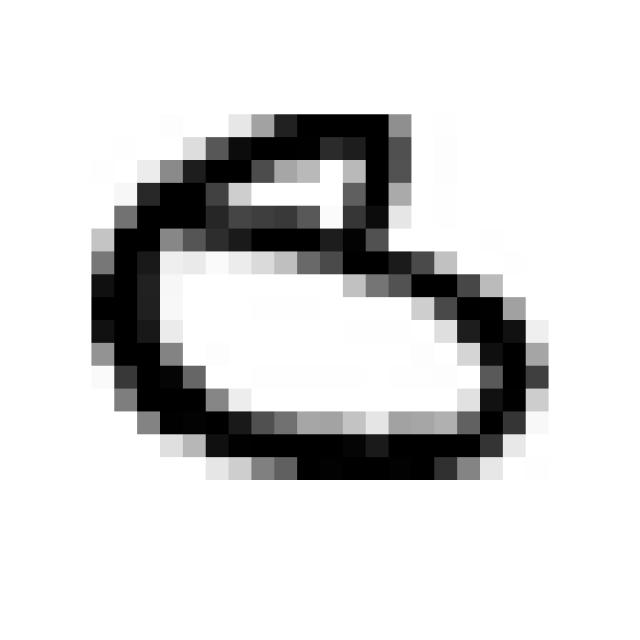5 -five-: (66, 92, 560, 497)
